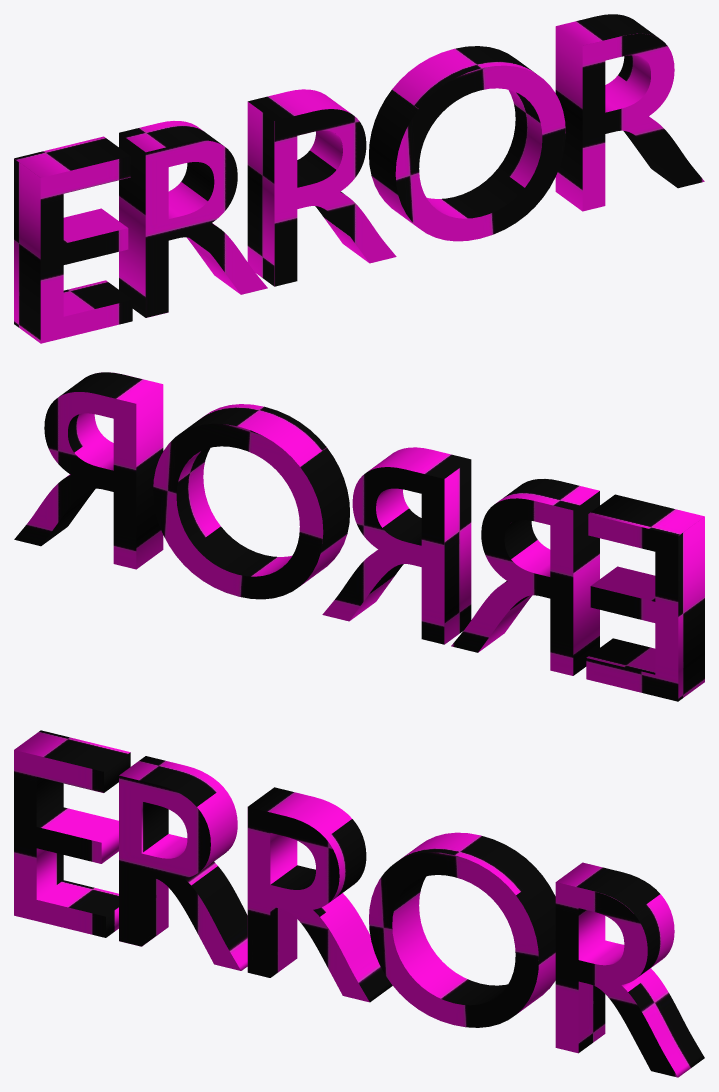
File: missing.dae
The picture shows the model from 3 angles, top to bottom: view 1: azimuth 30°, elevation 25°; view 2: azimuth 150°, elevation 25°; view 3: azimuth 330°, elevation 25°; orthographic projection.
Visible parts, largest first — view 1: Text; view 2: Text; view 3: Text.
Boxes of the visible parts, x1=… form: Text: x1=14, y1=14, x2=704, y2=343; Text: x1=14, y1=372, x2=704, y2=701; Text: x1=14, y1=730, x2=704, y2=1077.
Size of the model in its own units: 2.86 by 0.2 by 0.7.
Materials: 1 (1 with a texture image).
